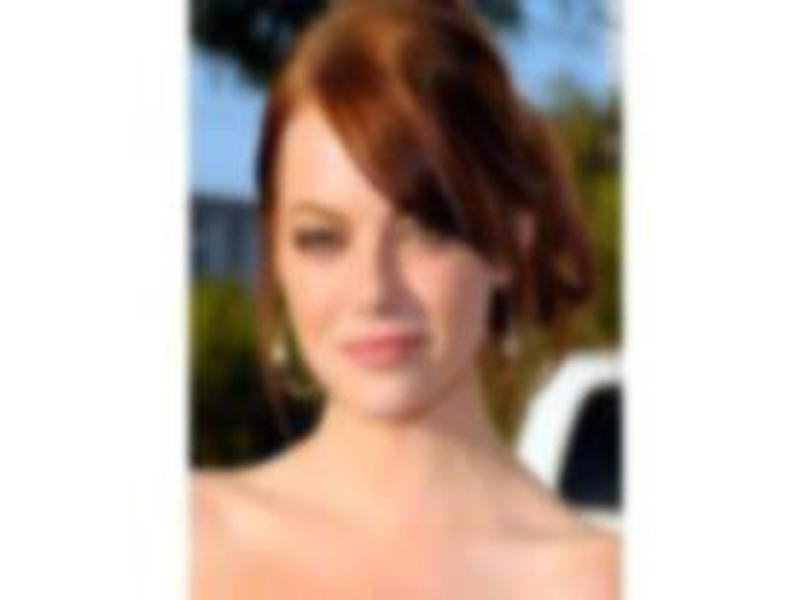without_mask: (272, 134, 497, 421)
